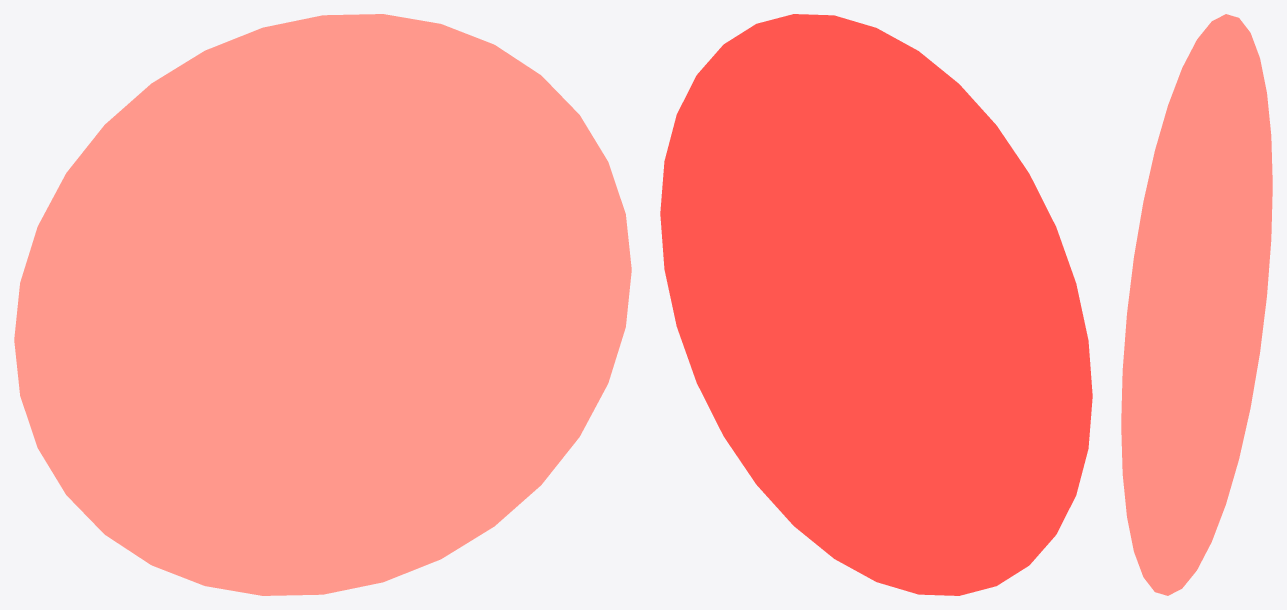
File: MiniUnit1StageDrumLight.glb
3 renders of one model, left to right at view 1: azimuth 30°, elevation 25°; view 2: azimuth 150°, elevation 25°; view 3: azimuth 270°, elevation 25°, orthographic. The views are drawn at different scales.
Visible parts, largest first — view 1: KickDrumHead; view 2: KickDrumHead; view 3: KickDrumHead.
Part boxes in pixels (x1=…): KickDrumHead: x1=14, y1=14, x2=631, y2=595; KickDrumHead: x1=660, y1=14, x2=1092, y2=595; KickDrumHead: x1=1121, y1=14, x2=1272, y2=595.
Bounding box in the file's own units: 0.5407 × 0.5598 × 0.1449.
